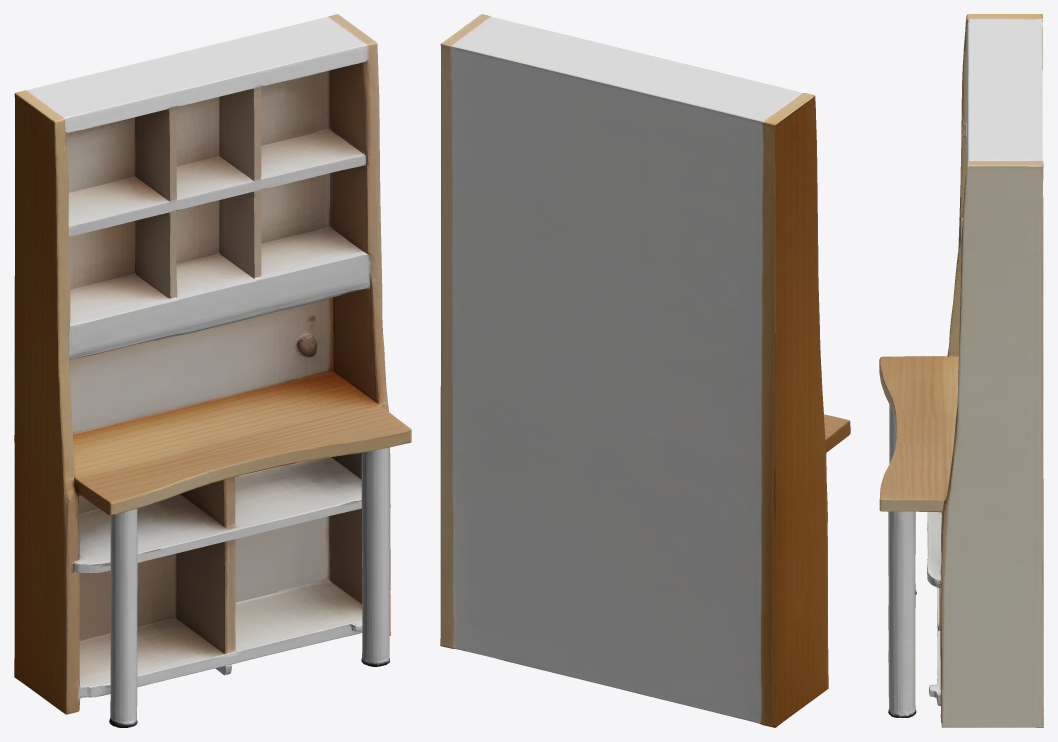
The model's file is c99e17ba-2379-4673-a75c-5a4ddba9cfa9.glb.
3 views of the same model, side by side, from view 1: azimuth 30°, elevation 25°; view 2: azimuth 150°, elevation 25°; view 3: azimuth 270°, elevation 25° (orthographic). The views are drawn at different scales.
Visible parts, largest first — view 1: world; view 2: world; view 3: world.
Part boxes in pixels (<box>): world: <box>14,14,411,727</box>; world: <box>440,14,850,727</box>; world: <box>879,14,1043,727</box>.
Size of the model in its own units: 0.5806 by 1 by 0.2649.
1 material, 1 textured.
